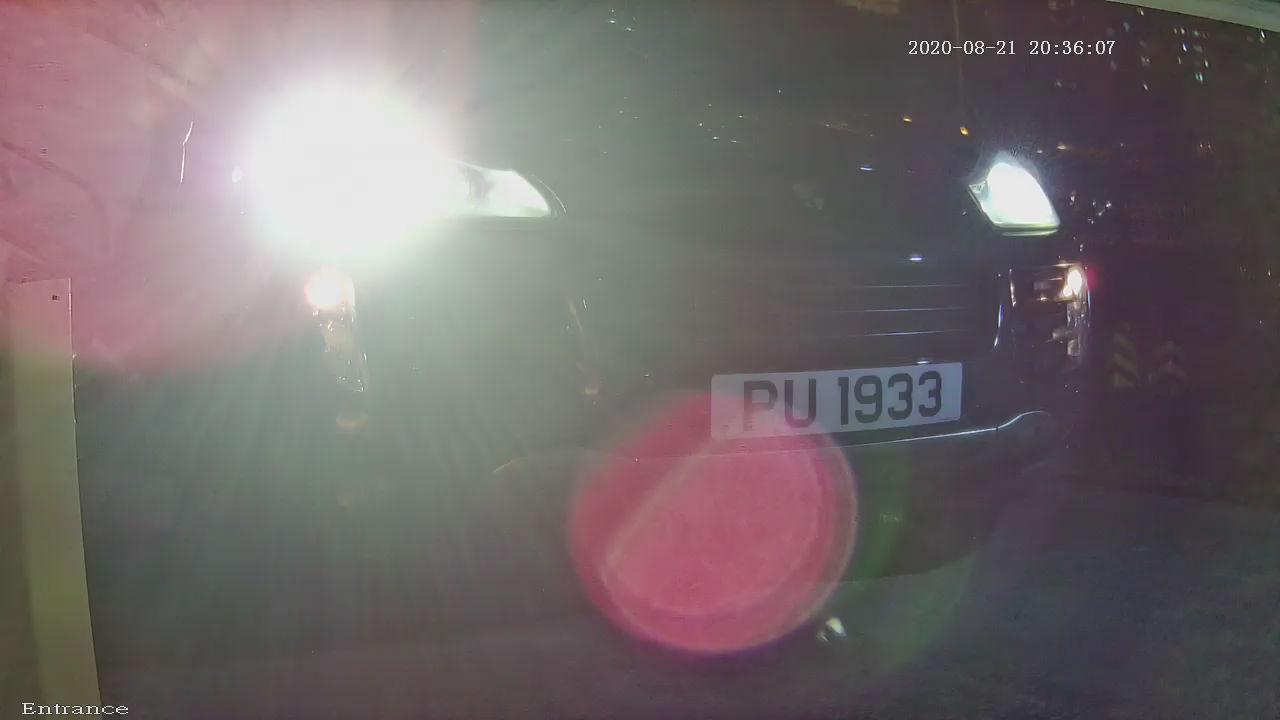Car: (12, 33, 1241, 650)
License Plate: (652, 325, 985, 500)
